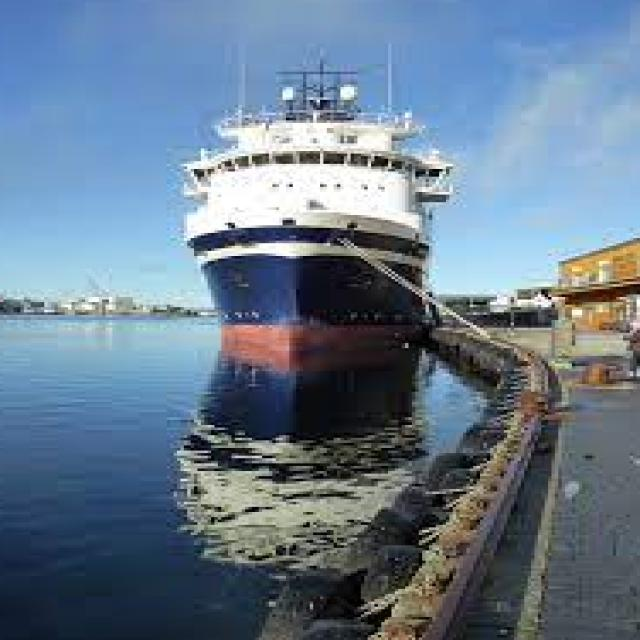passenger ship: (164, 53, 467, 321)
